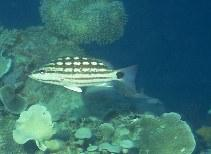Lutjanidae -Snappers-: (26, 54, 139, 94)
